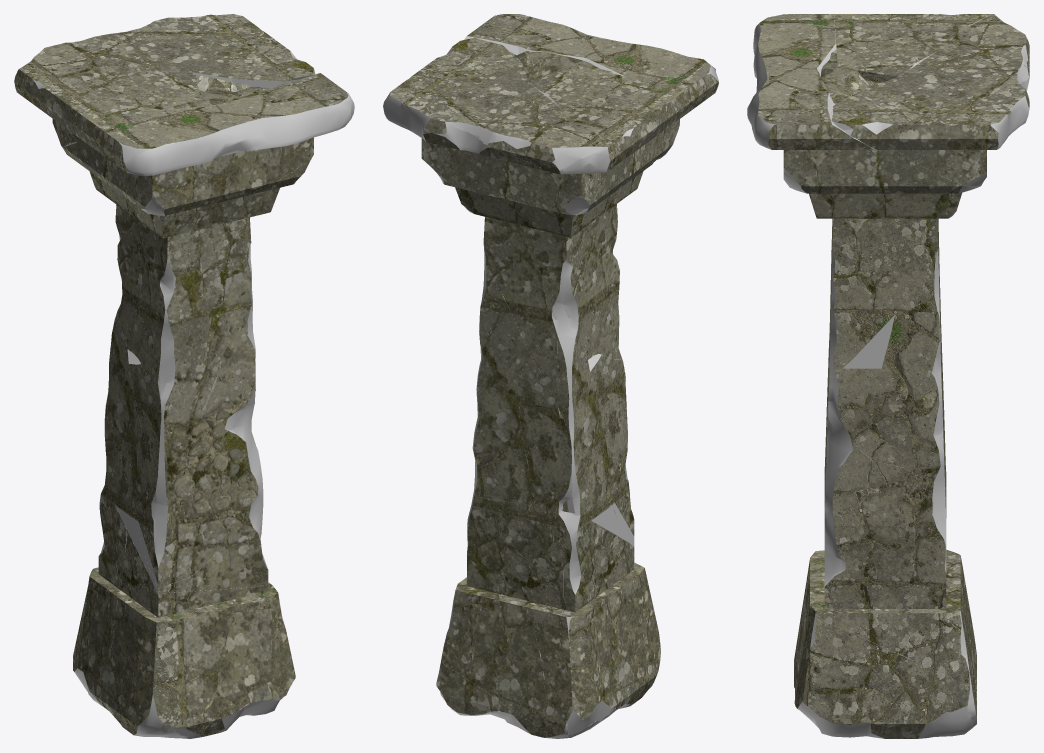
Rendered from SM_DestructiblePillar_01.fbx.
3 views of the same model, side by side, from view 1: azimuth 30°, elevation 25°; view 2: azimuth 150°, elevation 25°; view 3: azimuth 270°, elevation 25° (orthographic). The views are drawn at different scales.
Visible parts, largest first — view 1: SM_Chateaux_07_02_dmg.003, SM_Chateaux_07_02_dmg.004, SM_Chateaux_07_02_dmg.028, SM_Chateaux_07_02_dmg.025, SM_Chateaux_07_02_dmg.006, SM_Chateaux_07_02_dmg.012, SM_Chateaux_07_02_dmg.013, SM_Chateaux_07_02_dmg.011, SM_Chateaux_07_02_dmg.022, SM_Chateaux_07_02_dmg.026, SM_Chateaux_07_02_dmg.023, SM_Chateaux_07_02_dmg.024 (+13 smaller); view 2: SM_Chateaux_07_02_dmg.020, SM_Chateaux_07_02_dmg.026, SM_Chateaux_07_02_dmg.016, SM_Chateaux_07_02_dmg.003, SM_Chateaux_07_02_dmg.012, SM_Chateaux_07_02_dmg.009, SM_Chateaux_07_02_dmg.005, SM_Chateaux_07_02_dmg.013, SM_Chateaux_07_02_dmg.032, SM_Chateaux_07_02_dmg.025, SM_Chateaux_07_02_dmg.021, SM_Chateaux_07_02_dmg.019 (+16 smaller); view 3: SM_Chateaux_07_02_dmg.019, SM_Chateaux_07_02_dmg.003, SM_Chateaux_07_02_dmg.013, SM_Chateaux_07_02_dmg.034, SM_Chateaux_07_02_dmg.028, SM_Chateaux_07_02_dmg.022, SM_Chateaux_07_02_dmg.035, SM_Chateaux_07_02_dmg.012, SM_Chateaux_07_02_dmg.018, SM_Chateaux_07_02_dmg.007, SM_Chateaux_07_02_dmg.029, SM_Chateaux_07_02_dmg.016 (+12 smaller).
Boxes of the visible parts, <box> form: SM_Chateaux_07_02_dmg.003: <box>74,77,354,222</box>; SM_Chateaux_07_02_dmg.004: <box>139,217,249,396</box>; SM_Chateaux_07_02_dmg.028: <box>171,599,295,738</box>; SM_Chateaux_07_02_dmg.025: <box>100,530,211,699</box>; SM_Chateaux_07_02_dmg.006: <box>129,304,247,503</box>; SM_Chateaux_07_02_dmg.012: <box>14,69,202,141</box>; SM_Chateaux_07_02_dmg.013: <box>50,27,315,88</box>; SM_Chateaux_07_02_dmg.011: <box>127,363,222,584</box>; SM_Chateaux_07_02_dmg.022: <box>223,380,268,588</box>; SM_Chateaux_07_02_dmg.026: <box>73,484,126,699</box>; SM_Chateaux_07_02_dmg.023: <box>135,453,228,592</box>; SM_Chateaux_07_02_dmg.024: <box>104,394,231,595</box>; SM_Chateaux_07_02_dmg.020: <box>472,362,572,510</box>; SM_Chateaux_07_02_dmg.026: <box>559,511,622,736</box>; SM_Chateaux_07_02_dmg.016: <box>383,85,605,214</box>; SM_Chateaux_07_02_dmg.003: <box>472,14,718,160</box>; SM_Chateaux_07_02_dmg.012: <box>530,65,685,179</box>; SM_Chateaux_07_02_dmg.009: <box>441,574,550,734</box>; SM_Chateaux_07_02_dmg.005: <box>483,216,559,407</box>; SM_Chateaux_07_02_dmg.013: <box>405,37,597,134</box>; SM_Chateaux_07_02_dmg.032: <box>528,224,607,359</box>; SM_Chateaux_07_02_dmg.025: <box>597,528,656,700</box>; SM_Chateaux_07_02_dmg.021: <box>552,285,605,482</box>; SM_Chateaux_07_02_dmg.019: <box>474,263,533,430</box>; SM_Chateaux_07_02_dmg.019: <box>859,269,942,478</box>; SM_Chateaux_07_02_dmg.003: <box>747,14,836,170</box>; SM_Chateaux_07_02_dmg.013: <box>831,24,973,149</box>; SM_Chateaux_07_02_dmg.034: <box>827,218,926,428</box>; SM_Chateaux_07_02_dmg.028: <box>794,607,884,737</box>; SM_Chateaux_07_02_dmg.022: <box>824,315,894,601</box>; SM_Chateaux_07_02_dmg.035: <box>847,486,946,648</box>; SM_Chateaux_07_02_dmg.012: <box>834,14,992,82</box>; SM_Chateaux_07_02_dmg.018: <box>816,150,980,218</box>; SM_Chateaux_07_02_dmg.007: <box>837,450,921,593</box>; SM_Chateaux_07_02_dmg.029: <box>878,646,972,738</box>; SM_Chateaux_07_02_dmg.016: <box>896,77,1029,186</box>.
Size of the model in its own units: 403 by 1043 by 421.
